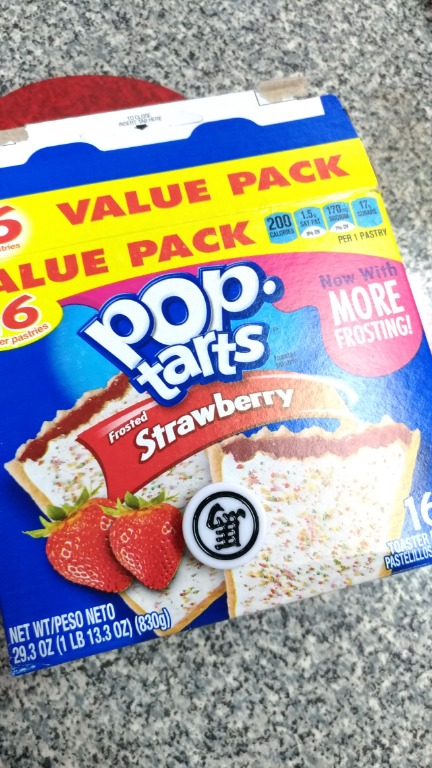b-knight: (166, 471, 301, 573)
